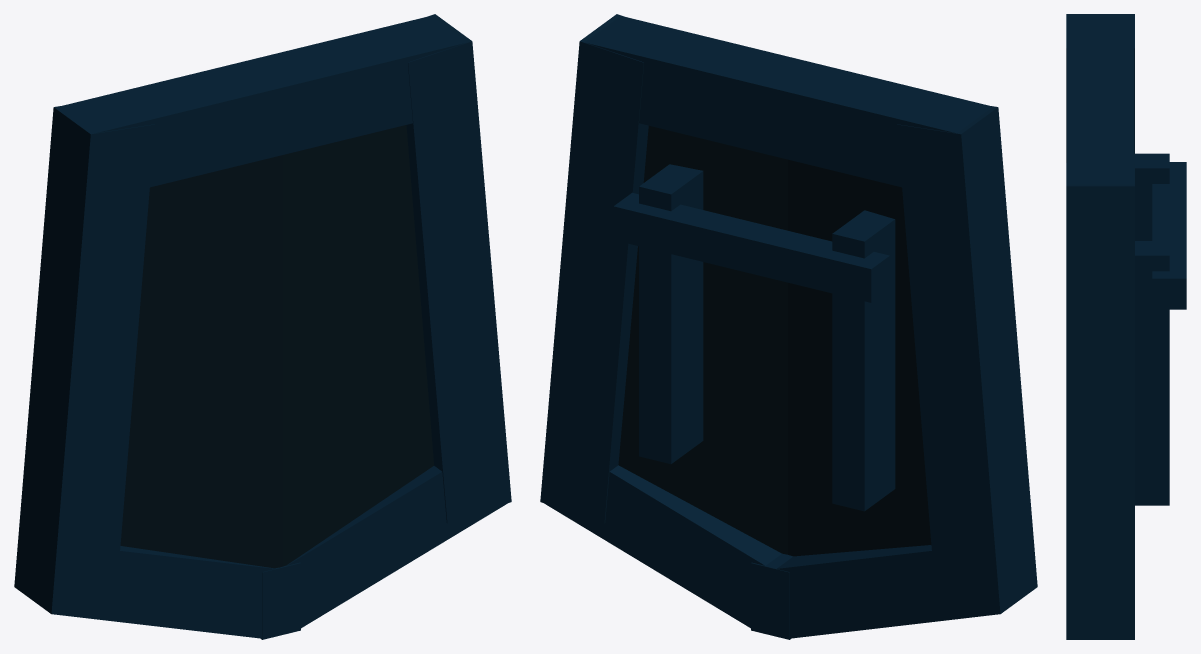
Rendered from ProtoFullProtectionShield.fbx.
The picture shows the model from 3 angles, left to right: view 1: azimuth 30°, elevation 25°; view 2: azimuth 150°, elevation 25°; view 3: azimuth 270°, elevation 25°; orthographic projection. The views are drawn at different scales.
Visible parts, largest first — view 1: Cube.014, Cube.001; view 2: Cube.014, Cube.001, Cube.017; view 3: Cube.014, Cube.017.
Boxes of the visible parts, box(x1,y1,x2,y2) form: Cube.014: box(14, 14, 511, 639); Cube.001: box(120, 125, 433, 568); Cube.014: box(540, 14, 1037, 639); Cube.001: box(618, 125, 931, 556); Cube.017: box(613, 164, 895, 511); Cube.014: box(1066, 14, 1134, 639); Cube.017: box(1134, 153, 1186, 505).
Size of the model in its own units: 143 by 162 by 35.
